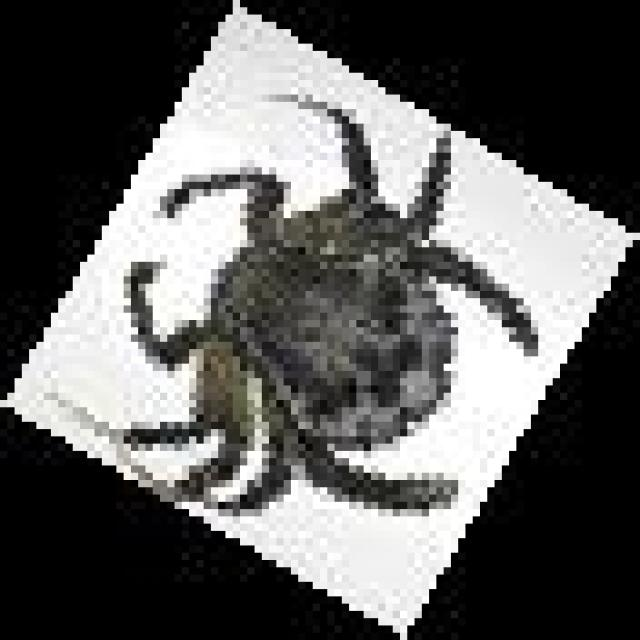European Green crab: (109, 95, 531, 509)
